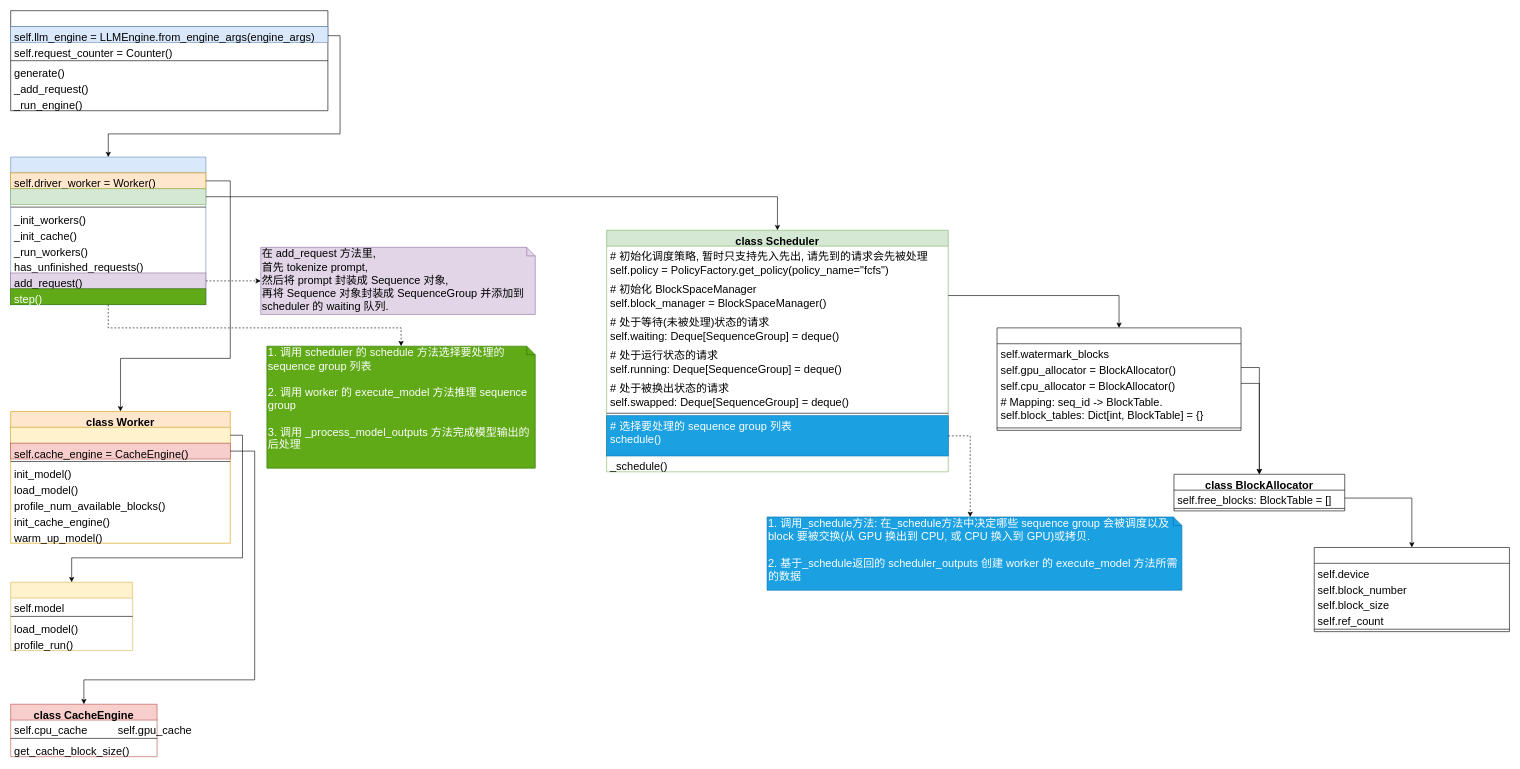
This 1520x769 diagram has some shape labels left out. The box of each missing label's shape, as (x1, y1, x2, y2) in pixels:
class BlockSpaceManager: (996, 327, 1241, 430)
class LLM: (10, 10, 328, 111)
class LLMEngine: (10, 156, 206, 305)
class ModelRunner: (10, 582, 133, 651)
class PhysicalTokenBlock: (1314, 547, 1509, 632)
self.model_runner = ModelRunner(): (10, 427, 230, 443)
self.scheduler = Scheduler(): (10, 188, 206, 205)
